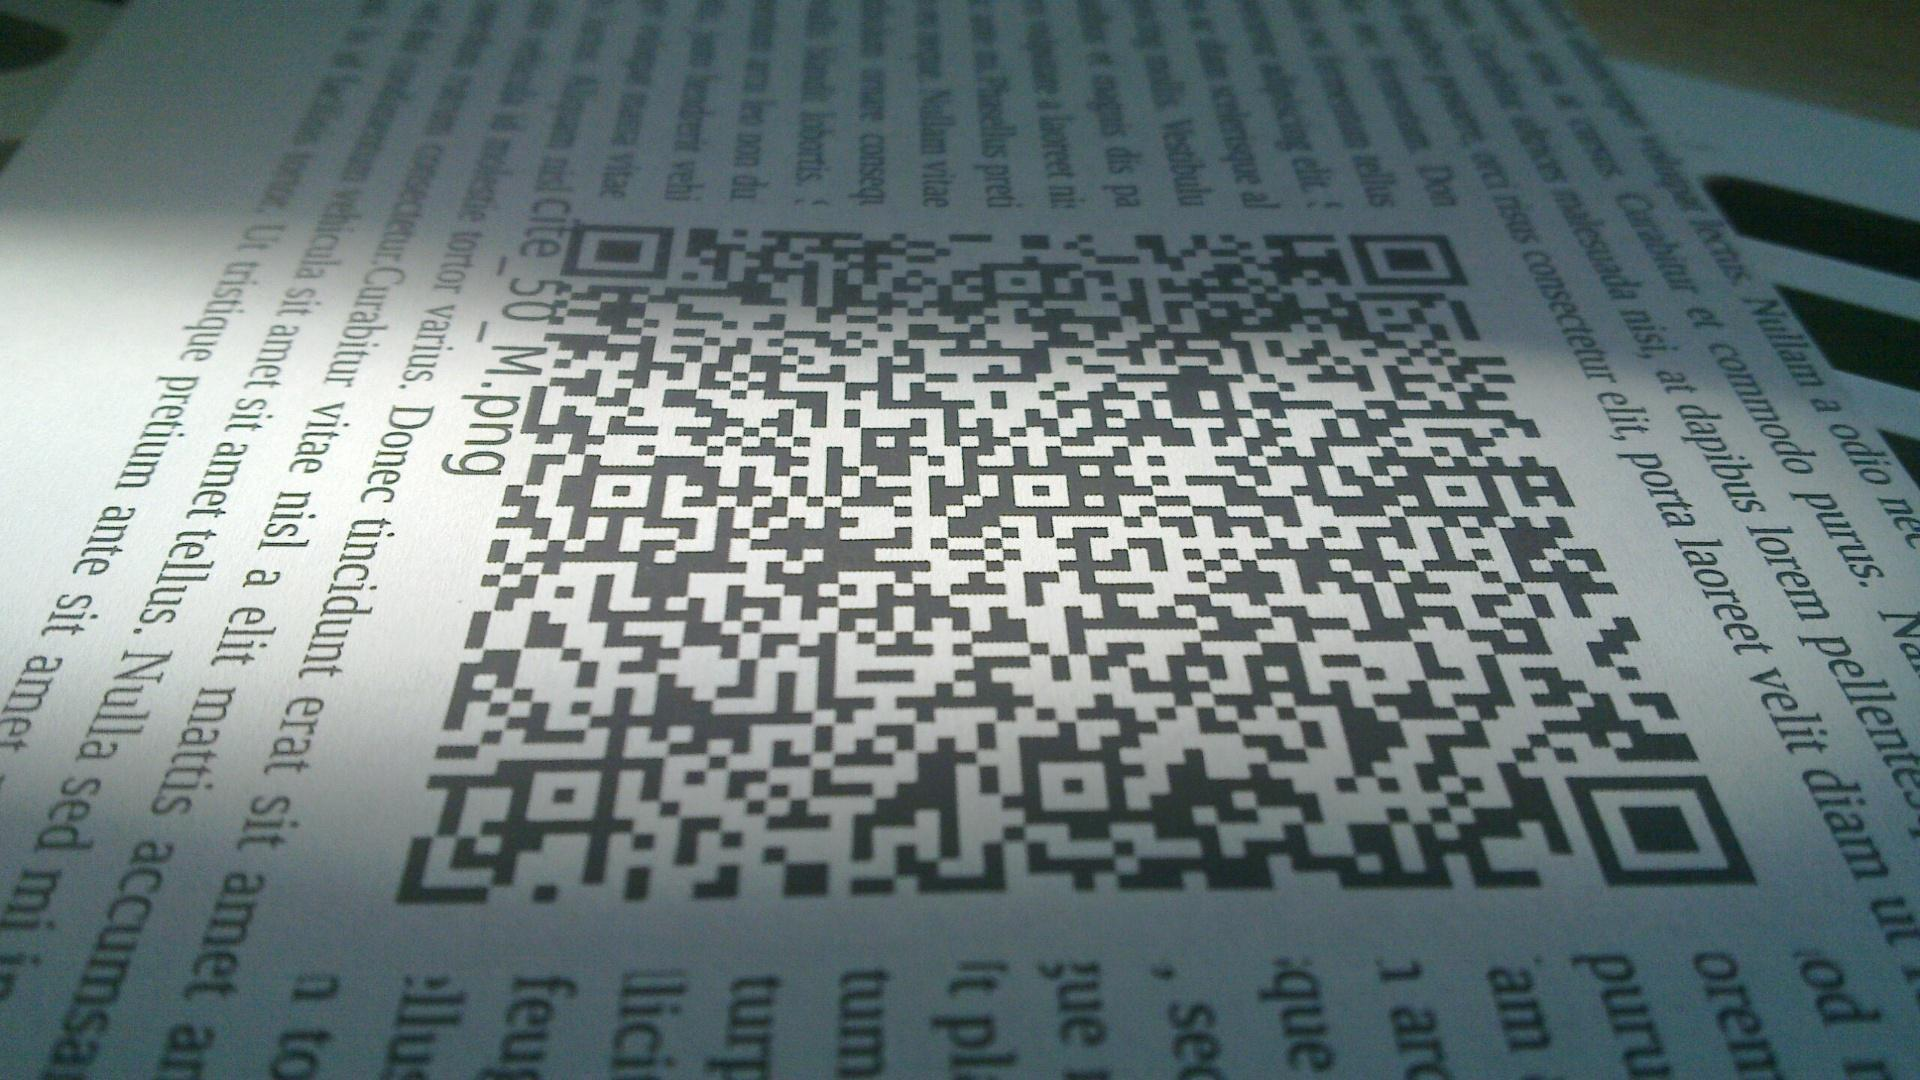qr_code: (396, 219, 1759, 907)
